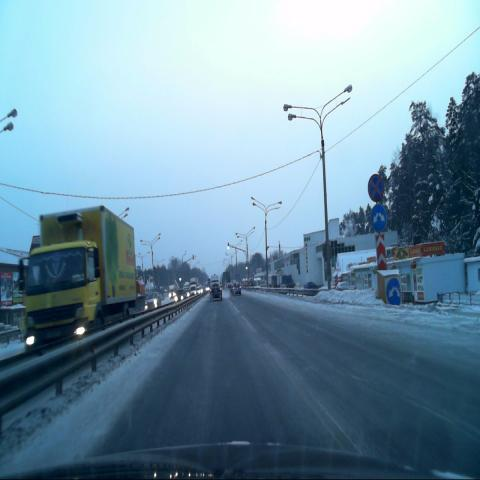3_27: (367, 173, 384, 203)
